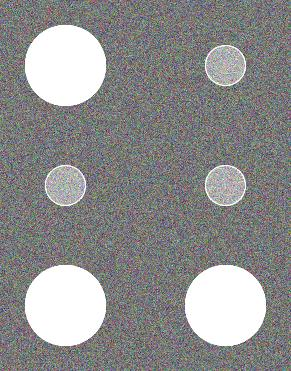U: (21, 19, 271, 352)
